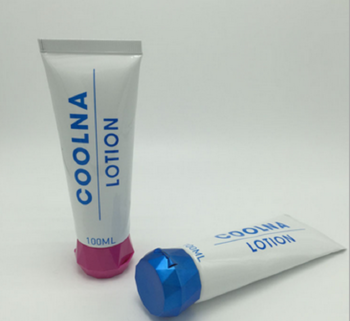Nonrec_Plastic: (125, 184, 338, 321), (32, 25, 139, 280)
